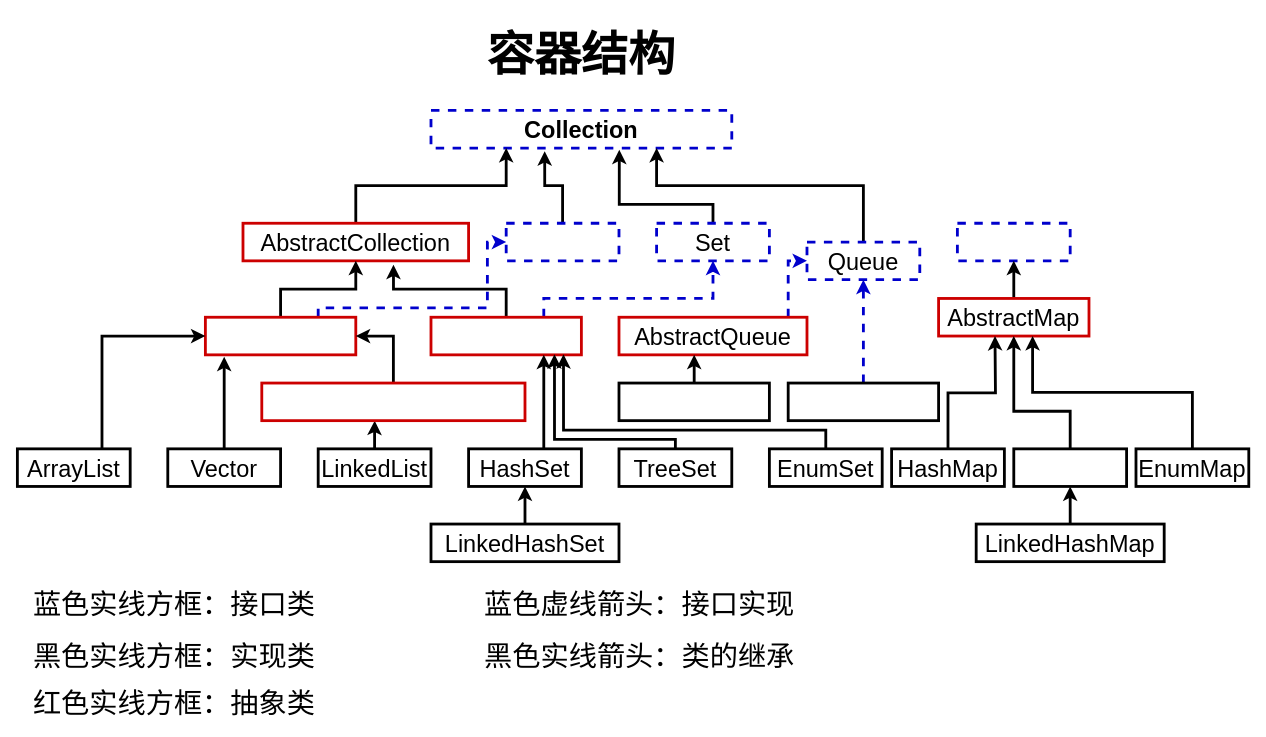
The diagram is 1266 pixels wide and 737 high, and some of its shapes have lost their labels. The shapes that lost their labels are listed below. From the top down, each one's box as (x1, y1, x2, y2) in pixels, then its label:
(504, 221, 620, 262): List
(956, 221, 1071, 262): Map
(204, 315, 357, 356): AbstractList
(429, 315, 582, 356): AbstractSet
(260, 381, 526, 422): AbstractSequentialList
(617, 381, 770, 422): PriortyQueue
(786, 381, 940, 422): ArrayDeque
(1012, 447, 1128, 487): TreeMap
